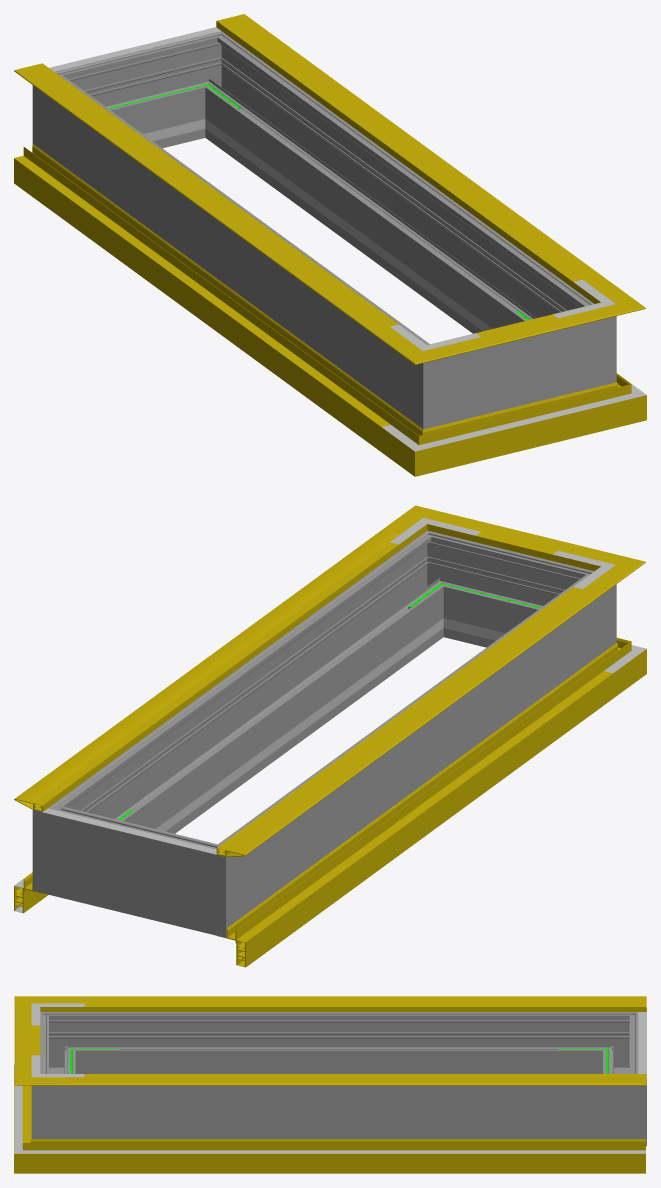
3 renders of one model, top to bottom at view 1: azimuth 30°, elevation 25°; view 2: azimuth 150°, elevation 25°; view 3: azimuth 270°, elevation 25°, orthographic. The views are drawn at different scales.
Parts seen in each view (by area): view 1: 3DGeom-297, 3DGeom-268, 3DGeom-85, 3DGeom-145, 3DGeom-147, 3DGeom-276, 3DGeom-270, 3DGeom-298, 3DGeom-90, 3DGeom-284, 3DGeom-290, 3DGeom-86 (+12 smaller); view 2: 3DGeom-297, 3DGeom-268, 3DGeom-85, 3DGeom-145, 3DGeom-147, 3DGeom-278, 3DGeom-276, 3DGeom-298, 3DGeom-284, 3DGeom-290, 3DGeom-105, 3DGeom-154 (+10 smaller); view 3: 3DGeom-268, 3DGeom-297, 3DGeom-97, 3DGeom-147, 3DGeom-145, 3DGeom-290, 3DGeom-284, 3DGeom-98, 3DGeom-154, 3DGeom-152, 3DGeom-270, 3DGeom-278 (+13 smaller).
Part boxes in pixels (x1,y1,x2,y2): 3DGeom-297: (211,51,573,333); 3DGeom-268: (66,92,408,404); 3DGeom-85: (14,144,400,451); 3DGeom-145: (216,14,611,295); 3DGeom-147: (14,65,407,340); 3DGeom-276: (96,43,195,148); 3DGeom-270: (389,328,481,429); 3DGeom-298: (481,330,558,415); 3DGeom-90: (462,392,588,462); 3DGeom-284: (173,31,249,141); 3DGeom-290: (558,288,616,396); 3DGeom-86: (381,413,472,476); 3DGeom-297: (76,551,437,833); 3DGeom-268: (240,591,582,903); 3DGeom-85: (217,659,613,966); 3DGeom-145: (14,530,410,811); 3DGeom-147: (216,581,612,856); 3DGeom-278: (168,828,259,937); 3DGeom-276: (90,816,178,923); 3DGeom-298: (453,542,552,647); 3DGeom-284: (32,788,101,904); 3DGeom-290: (399,530,475,640); 3DGeom-105: (237,671,612,943); 3DGeom-154: (217,587,581,851); 3DGeom-268: (84,1012,594,1073); 3DGeom-297: (84,1085,594,1139); 3DGeom-97: (66,1139,645,1173); 3DGeom-147: (67,996,646,1011); 3DGeom-145: (67,1077,646,1085); 3DGeom-290: (31,1060,84,1139); 3DGeom-284: (594,1060,646,1146); 3DGeom-98: (67,1150,645,1153); 3DGeom-154: (84,1003,646,1006); 3DGeom-152: (84,1074,646,1077); 3DGeom-270: (40,1012,84,1073); 3DGeom-278: (594,1008,646,1073).
Bounding box in the file's own units: 0.6096 × 0.2829 × 1.83.
